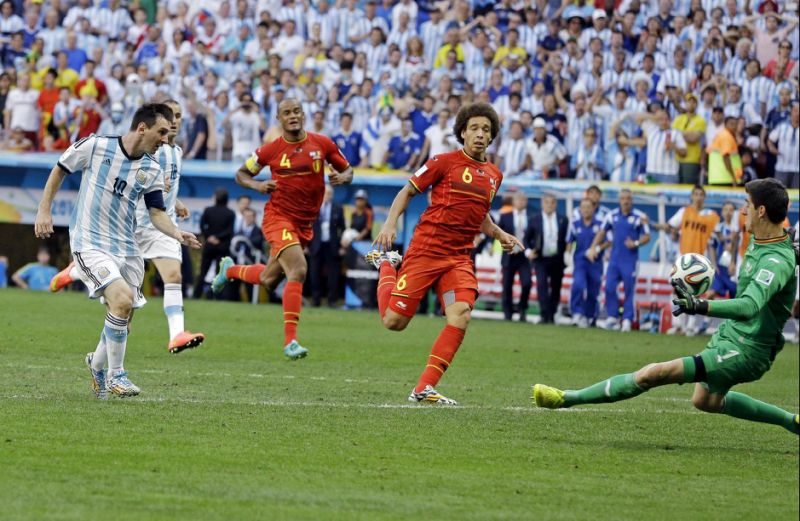soccer player: (531, 174, 800, 442), (363, 100, 528, 407), (206, 94, 360, 373), (31, 97, 167, 407), (135, 94, 210, 361)
soccerball: (666, 252, 717, 298)
